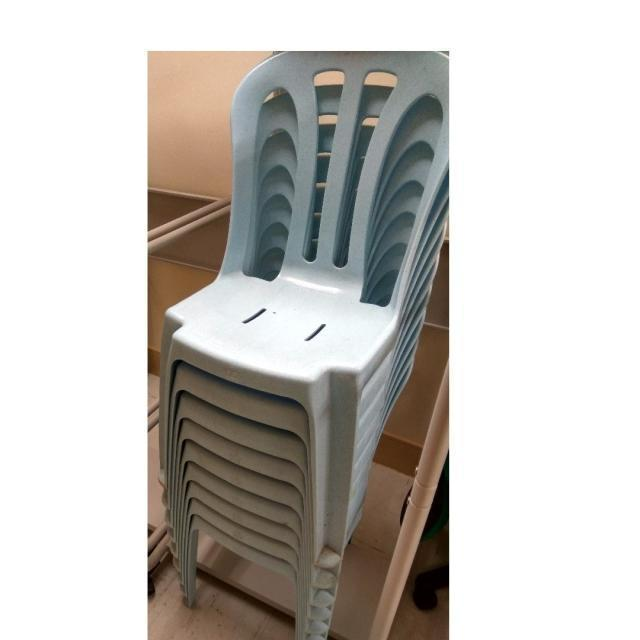chair: (148, 51, 450, 640)
